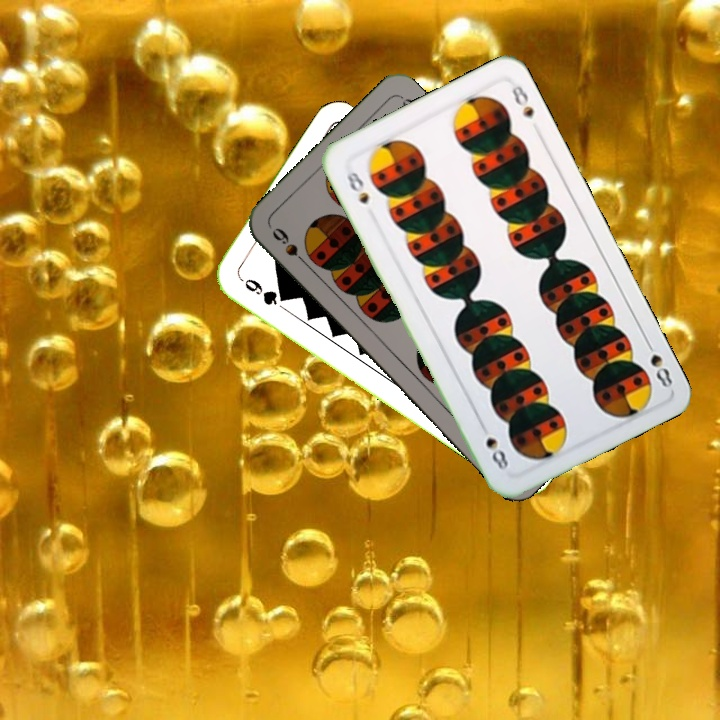G9: (235, 272, 290, 308)
S8: (641, 335, 675, 391), (340, 164, 372, 207)
S9: (268, 223, 313, 271)
